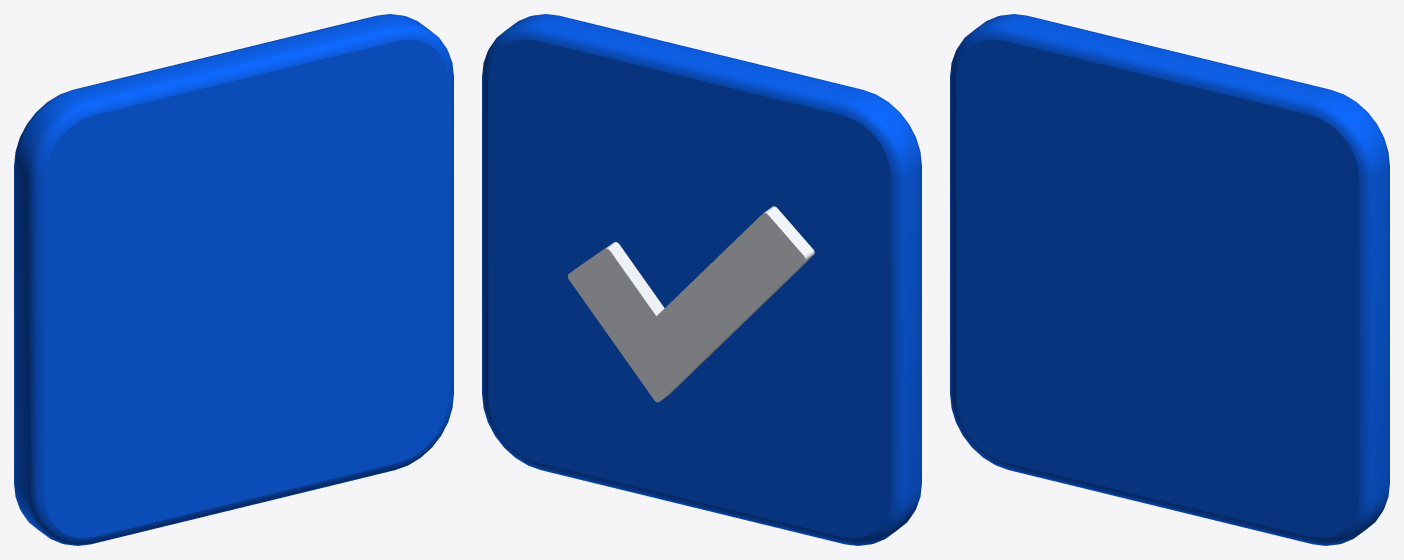
Rendered from 39-nodeworks-check-box.glb.
The picture shows the model from 3 angles, left to right: view 1: azimuth 30°, elevation 25°; view 2: azimuth 150°, elevation 25°; view 3: azimuth 330°, elevation 25°; orthographic projection.
Visible parts, largest first — view 1: rounded_cobalt_checkbox; view 2: rounded_cobalt_checkbox, white_checkbox_checkmark; view 3: rounded_cobalt_checkbox.
Boxes of the visible parts, box(x1,y1,x2,y2) form: rounded_cobalt_checkbox: box(14, 14, 453, 545); rounded_cobalt_checkbox: box(482, 14, 921, 545); white_checkbox_checkmark: box(568, 206, 814, 402); rounded_cobalt_checkbox: box(950, 14, 1389, 545).
Size of the model in its own units: 0.12 by 0.12 by 0.0165.
